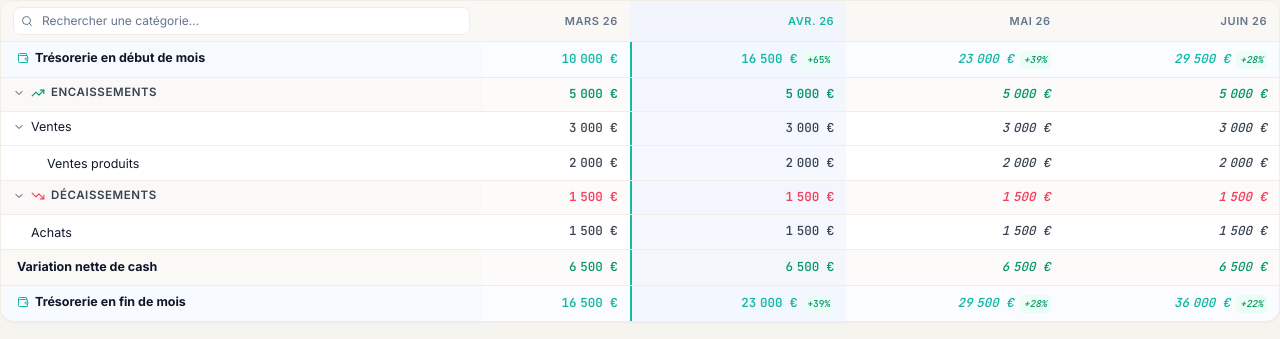
Scenario: PivotTable › collapses the Encaissements group via group header
# Group header button toggles off the whole group
Step 1. Click the button "Encaissements" → coordinates (85, 93), box [13,84,157,102]
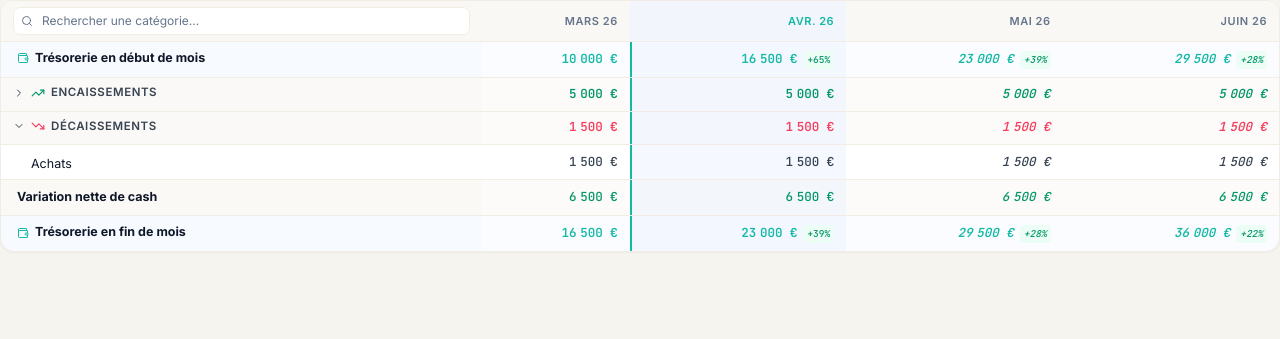
Now the text "Ventes" is gone
